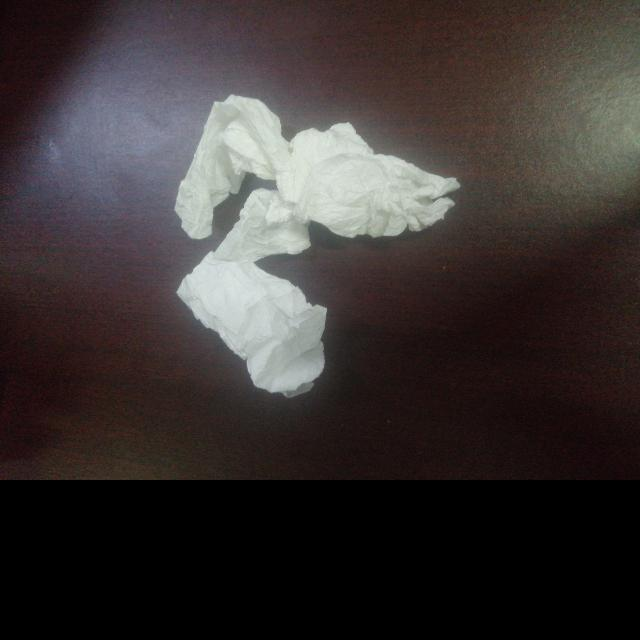kitchen paper: (171, 90, 464, 408)
